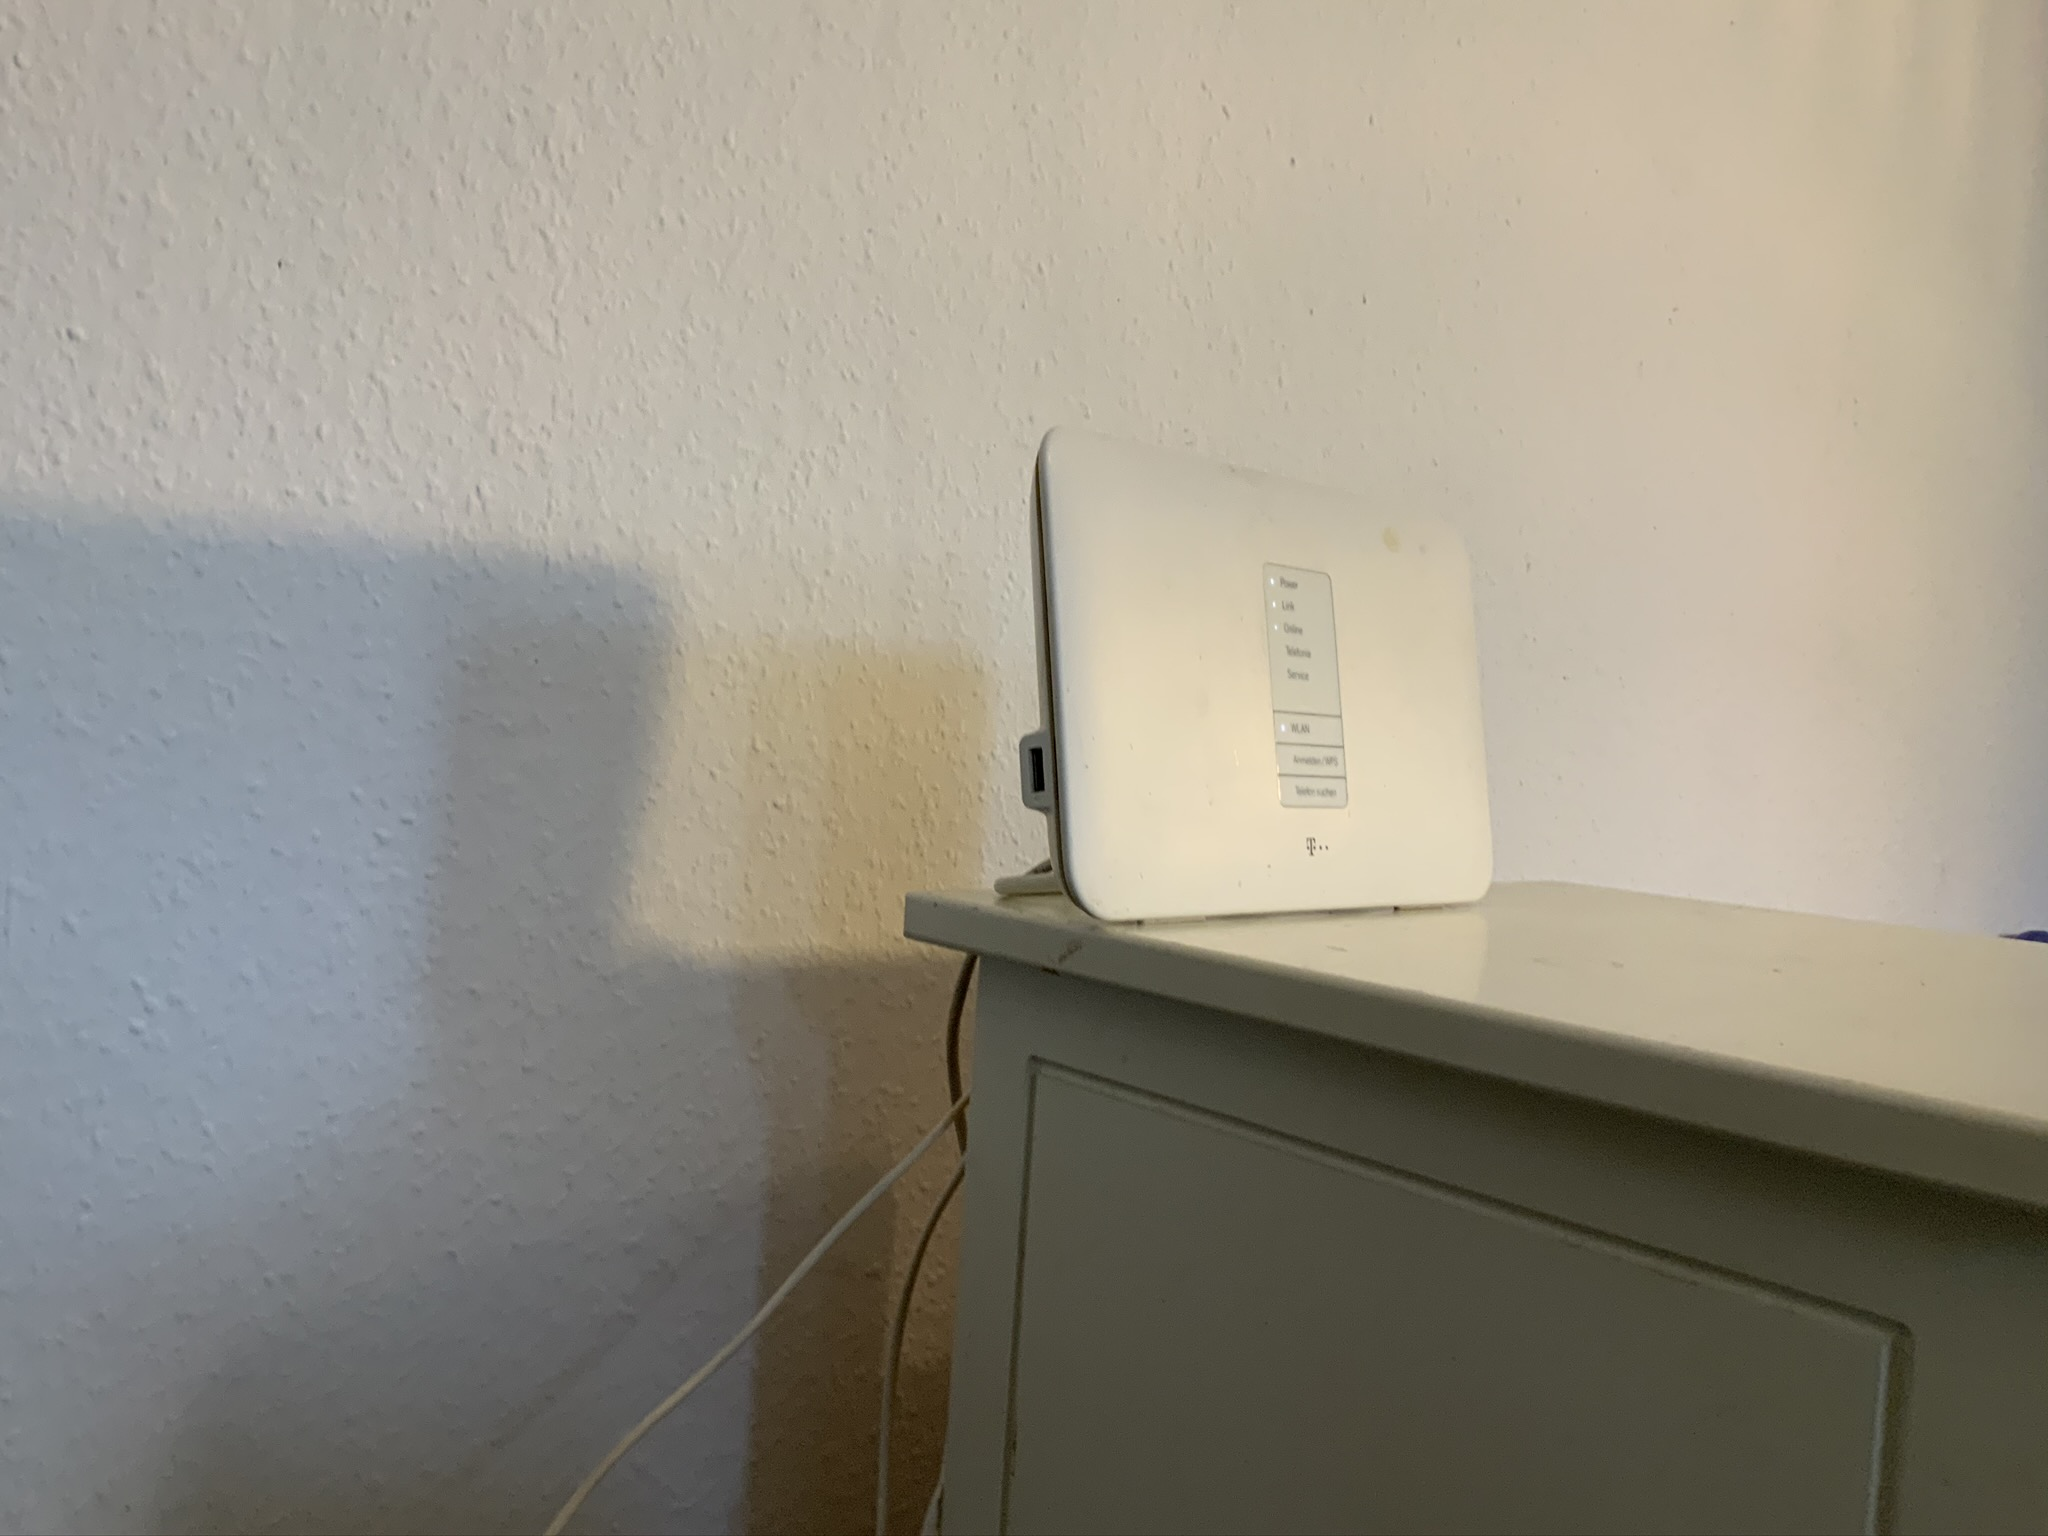router: (1026, 428, 1500, 929)
